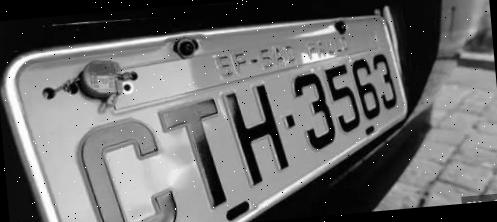placa_antiga: (4, 15, 407, 222)
